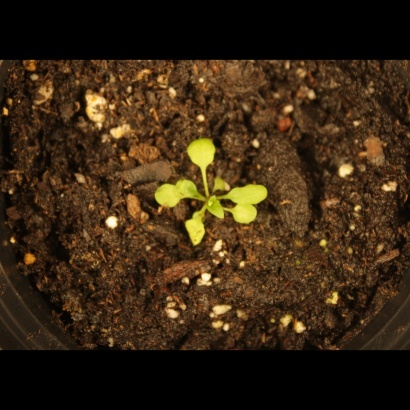leaf: (226, 182, 275, 208), (184, 137, 220, 171), (180, 210, 209, 249), (151, 181, 182, 213), (229, 201, 258, 228), (177, 176, 200, 199), (205, 196, 228, 219)
